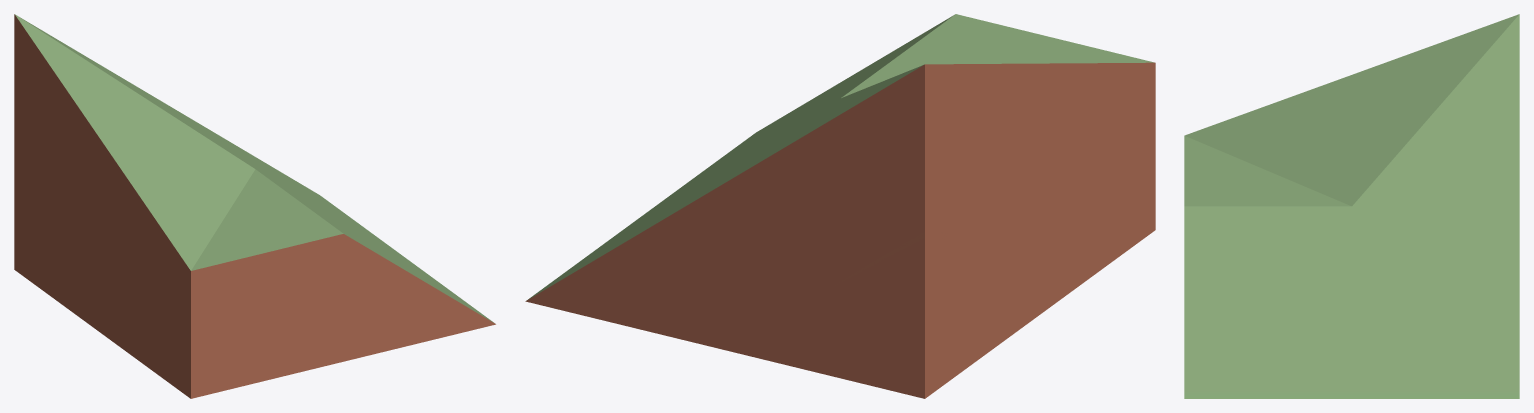
The model's file is Cenarios.fbx_Grounds_Inclinados_4X.fbx.
The picture shows the model from 3 angles, left to right: view 1: azimuth 30°, elevation 25°; view 2: azimuth 150°, elevation 25°; view 3: azimuth 270°, elevation 25°; orthographic projection. The views are drawn at different scales.
Parts seen in each view (by area): view 1: Ground.Inclinado V2 4X, Ground.Inclinado V3.1 4X, Ground.Inclinado v4 4X, Ground.Inclinado V2.1 4X, Ground.Inclinado V1 4X, Ground.Inclinado v6 4X, Ground.Inclinado v3 4X; view 2: Ground.Inclinado V1 4X, Ground.Inclinado V3.1 4X, Ground.Inclinado v6 4X, Ground.Inclinado V2 4X, Ground.Inclinado V1.1 4X, Ground.Inclinado v4 4X, Ground.Inclinado v3 4X, Ground.Inclinado v5 4X; view 3: Ground.Inclinado V3.1 4X, Ground.Inclinado V2 4X, Ground.Inclinado V1 4X, Ground.Inclinado v6 4X.
Boxes of the visible parts, x1=… form: Ground.Inclinado V2 4X: x1=15, y1=106, x2=495, y2=398; Ground.Inclinado V3.1 4X: x1=14, y1=14, x2=482, y2=396; Ground.Inclinado v4 4X: x1=14, y1=145, x2=330, y2=397; Ground.Inclinado V2.1 4X: x1=191, y1=271, x2=494, y2=398; Ground.Inclinado V1 4X: x1=14, y1=106, x2=493, y2=398; Ground.Inclinado v6 4X: x1=14, y1=108, x2=487, y2=395; Ground.Inclinado v3 4X: x1=14, y1=157, x2=187, y2=394; Ground.Inclinado V1 4X: x1=526, y1=133, x2=1154, y2=398; Ground.Inclinado V3.1 4X: x1=530, y1=62, x2=1155, y2=398; Ground.Inclinado v6 4X: x1=527, y1=133, x2=1154, y2=396; Ground.Inclinado V2 4X: x1=526, y1=14, x2=1155, y2=300; Ground.Inclinado V1.1 4X: x1=529, y1=231, x2=924, y2=397; Ground.Inclinado v4 4X: x1=925, y1=65, x2=1155, y2=395; Ground.Inclinado v3 4X: x1=726, y1=230, x2=1151, y2=397; Ground.Inclinado v5 4X: x1=725, y1=183, x2=1139, y2=396; Ground.Inclinado V3.1 4X: x1=1184, y1=14, x2=1519, y2=398; Ground.Inclinado V2 4X: x1=1184, y1=136, x2=1519, y2=398; Ground.Inclinado V1 4X: x1=1185, y1=206, x2=1519, y2=398; Ground.Inclinado v6 4X: x1=1195, y1=206, x2=1518, y2=389.
Bounding box in the file's own units: 1000 × 800 × 1000.
